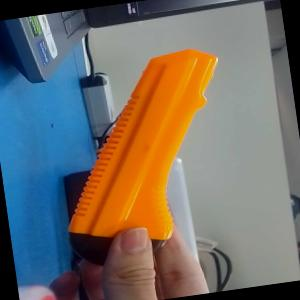estilete: (44, 43, 246, 269)
